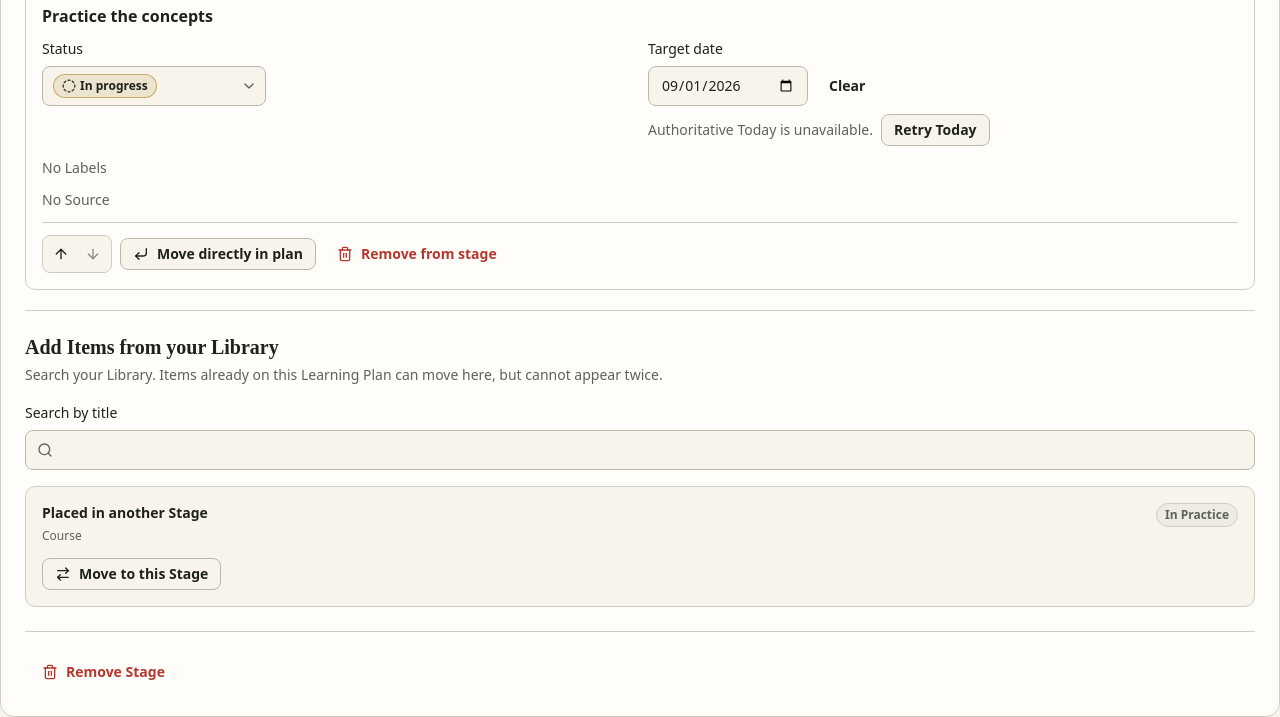
Test: Stage detail panel › reports a successful move separately from a failed detail refresh
(page scrolled)
Click the button "Move to this Stage": click(132, 574) x1=42 y1=558 x2=221 y2=590
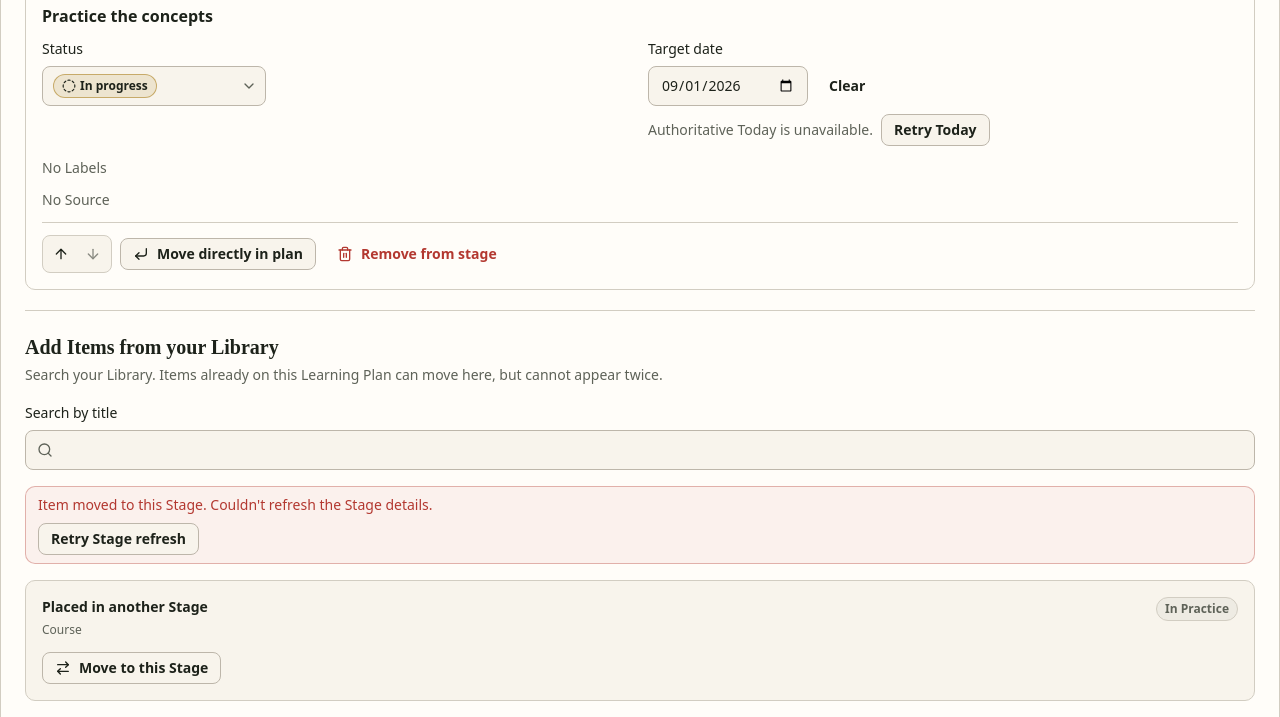
Result: the message shows "Item moved to this Stage. Couldn't refresh the Stage details." at x1=38 y1=495 x2=432 y2=514
Result: the button "Retry Stage refresh" is shown at x1=38 y1=523 x2=199 y2=555
